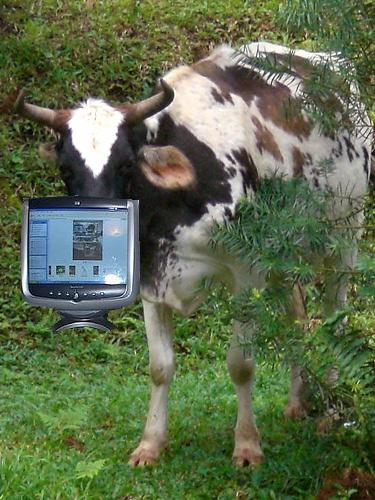tampered: (21, 196, 140, 331)
